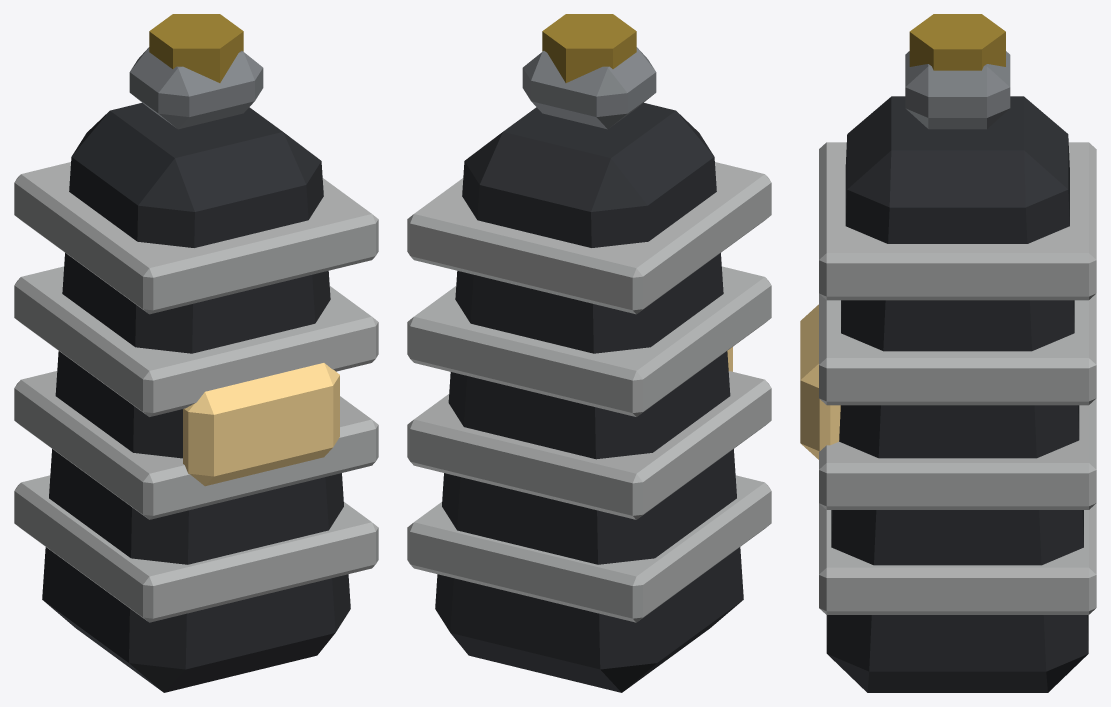
The model's file is energy_cell.fbx.
The picture shows the model from 3 angles, left to right: view 1: azimuth 30°, elevation 25°; view 2: azimuth 150°, elevation 25°; view 3: azimuth 270°, elevation 25°; orthographic projection. The views are drawn at different scales.
Visible parts, largest first — view 1: energy_cell; view 2: energy_cell; view 3: energy_cell.
Boxes of the visible parts, x1,y1,x2,y2 form: energy_cell: (14, 14, 378, 692); energy_cell: (407, 14, 771, 692); energy_cell: (800, 14, 1096, 692).
Size of the model in its own units: 0.144 by 0.3565 by 0.1536.
